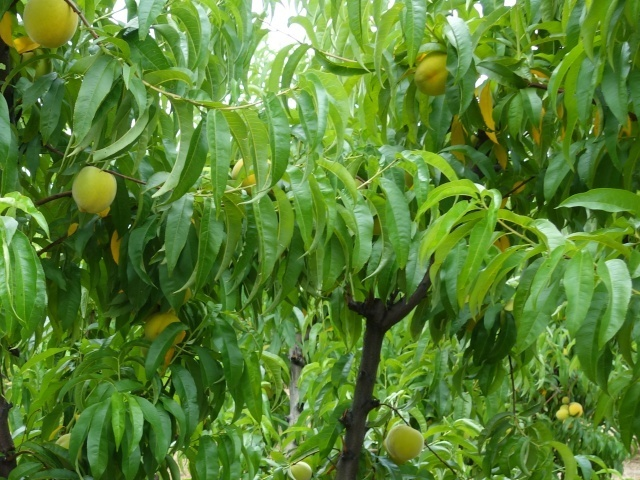peach: (14, 1, 84, 50), (66, 160, 121, 217), (408, 46, 454, 100), (141, 305, 189, 353), (382, 420, 427, 467)
